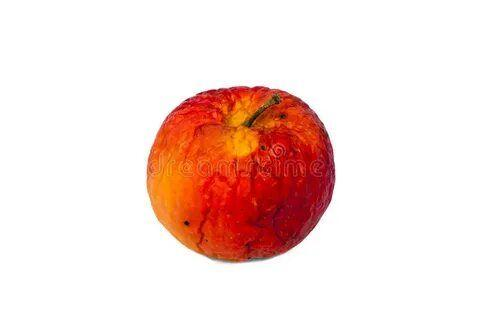Apple: (146, 88, 335, 262)
